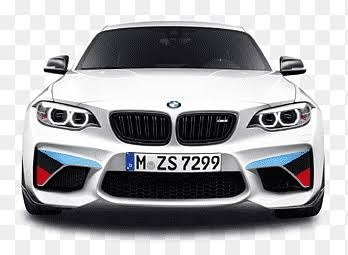car: (22, 14, 329, 226)
